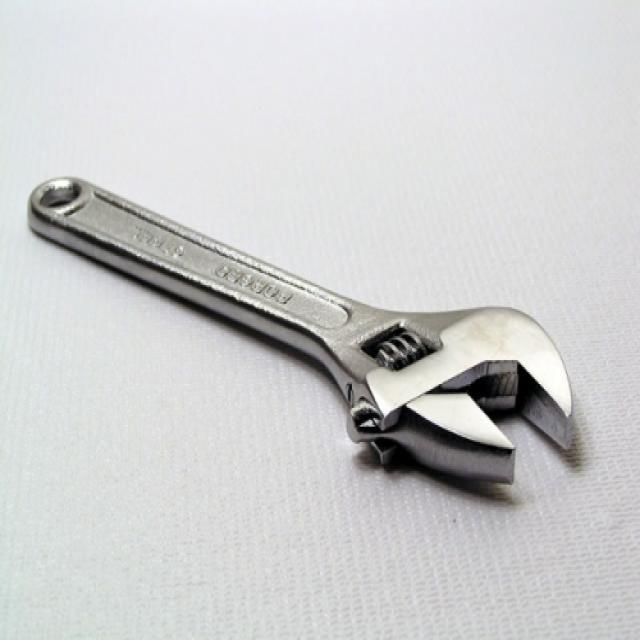wrench: (22, 158, 586, 502)
